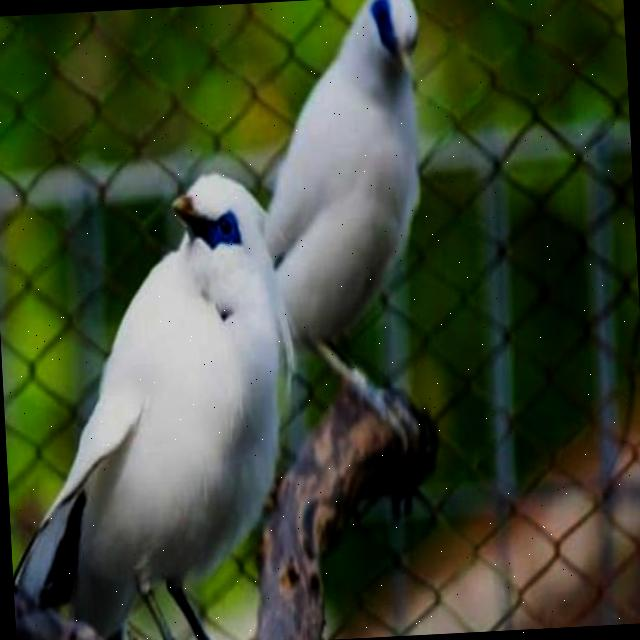Jalak Bali: (0, 120, 323, 640), (260, 0, 470, 449)
